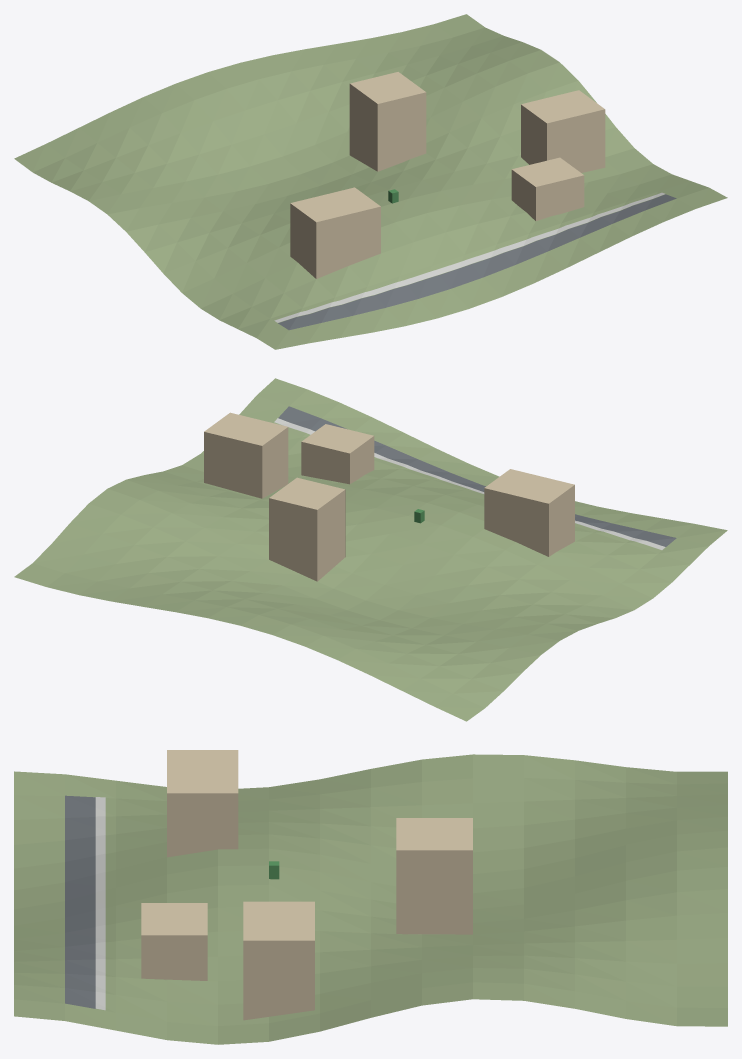
File: existing.glb
3 renders of one model, top to bottom at view 1: azimuth 30°, elevation 25°; view 2: azimuth 150°, elevation 25°; view 3: azimuth 270°, elevation 25°, orthographic. The views are drawn at different scales.
Parts seen in each view (by area): view 1: terrain, keep-B, remove-A, outside-C, road, crossing-D, walk; view 2: terrain, keep-B, remove-A, outside-C, crossing-D, road, walk; view 3: terrain, keep-B, outside-C, remove-A, road, crossing-D, walk.
Part boxes in pixels (<box>): terrain: <box>14,14,727,349</box>; keep-B: <box>349,72,426,171</box>; remove-A: <box>290,187,380,278</box>; outside-C: <box>521,90,605,172</box>; road: <box>278,194,676,330</box>; crossing-D: <box>511,157,584,220</box>; walk: <box>274,192,664,322</box>; terrain: <box>14,378,727,721</box>; keep-B: <box>269,477,345,581</box>; remove-A: <box>484,469,574,556</box>; outside-C: <box>204,412,288,498</box>; crossing-D: <box>301,424,374,484</box>; road: <box>278,406,676,546</box>; walk: <box>274,418,665,549</box>; terrain: <box>14,754,727,1044</box>; keep-B: <box>396,818,472,934</box>; outside-C: <box>243,901,314,1020</box>; remove-A: <box>167,750,238,857</box>; road: <box>65,795,95,1008</box>; crossing-D: <box>141,903,207,980</box>; walk: <box>95,797,105,1010</box>.
Size of the model in its own units: 140 by 28.85 by 140.
